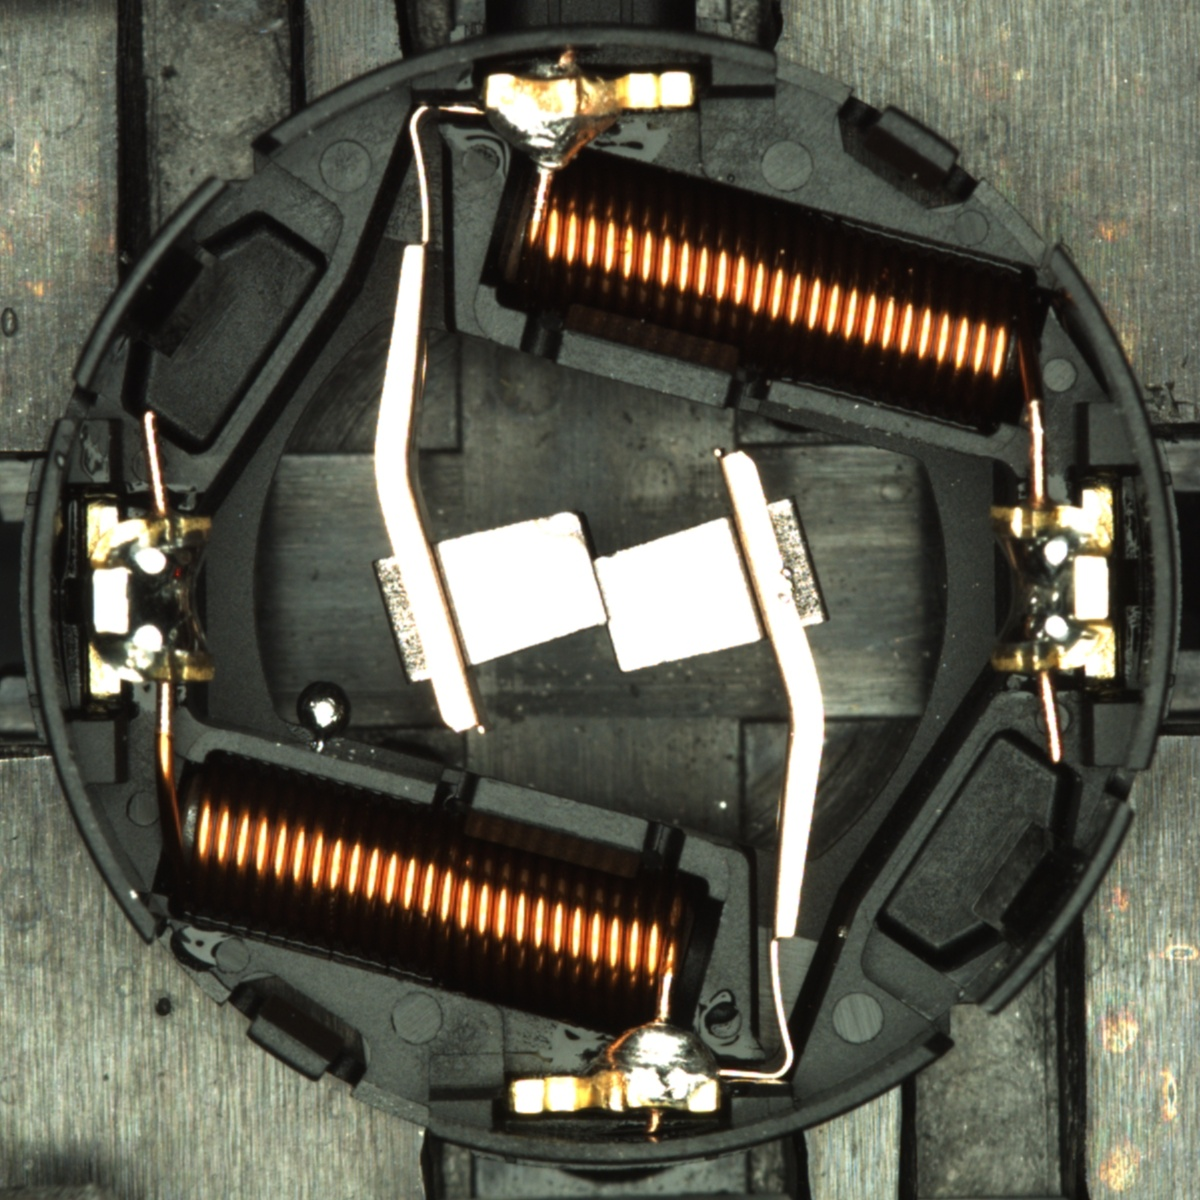1: (253, 30, 482, 255), (711, 927, 941, 1152)
2: (711, 30, 941, 255), (253, 927, 482, 1152)
3: (23, 255, 253, 479), (941, 703, 1169, 927)
4: (253, 255, 482, 479), (711, 703, 941, 927)
5: (482, 142, 711, 367), (482, 815, 711, 1040)
6: (711, 255, 941, 479)
7: (23, 703, 253, 927), (941, 255, 1169, 479)
cacbon: (391, 499, 802, 684)
chau_dien: (79, 498, 219, 700), (984, 487, 1123, 686)
hat_chi: (295, 680, 351, 740)
tay_choi: (481, 70, 700, 174), (508, 1016, 722, 1116)
thanh_de: (954, 787, 1142, 1031), (59, 163, 245, 405)
